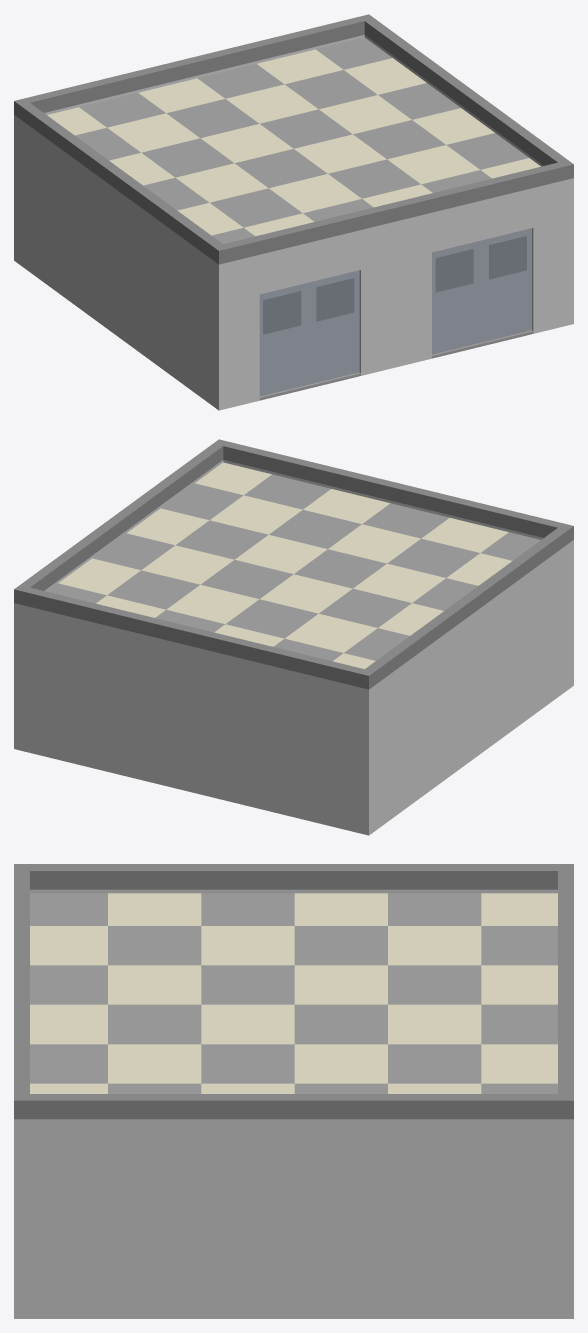
The model's file is TaggerPoint.FBX.
3 renders of one model, top to bottom at view 1: azimuth 30°, elevation 25°; view 2: azimuth 150°, elevation 25°; view 3: azimuth 270°, elevation 25°, orthographic. The views are drawn at different scales.
Visible parts, largest first — view 1: TagerPoint00, TagerPoint01, TagerPointDoor12, TagerPointDoor10, TagerPointDoor11, TagerPointDoor13; view 2: TagerPoint00, TagerPoint01; view 3: TagerPoint00, TagerPoint01.
Boxes of the visible parts, bbox=[...] form: TagerPoint00: bbox=[14, 14, 573, 410]; TagerPoint01: bbox=[47, 37, 540, 244]; TagerPointDoor12: bbox=[308, 270, 359, 384]; TagerPointDoor10: bbox=[481, 228, 531, 342]; TagerPointDoor11: bbox=[432, 240, 481, 354]; TagerPointDoor13: bbox=[259, 282, 308, 396]; TagerPoint00: bbox=[14, 439, 573, 835]; TagerPoint01: bbox=[47, 462, 540, 669]; TagerPoint00: bbox=[14, 864, 573, 1318]; TagerPoint01: bbox=[30, 893, 557, 1093].
Size of the model in its own units: 700 by 301 by 700.
